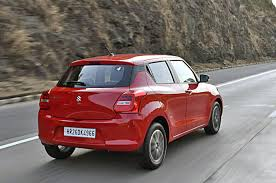Swift: (35, 52, 226, 169)
